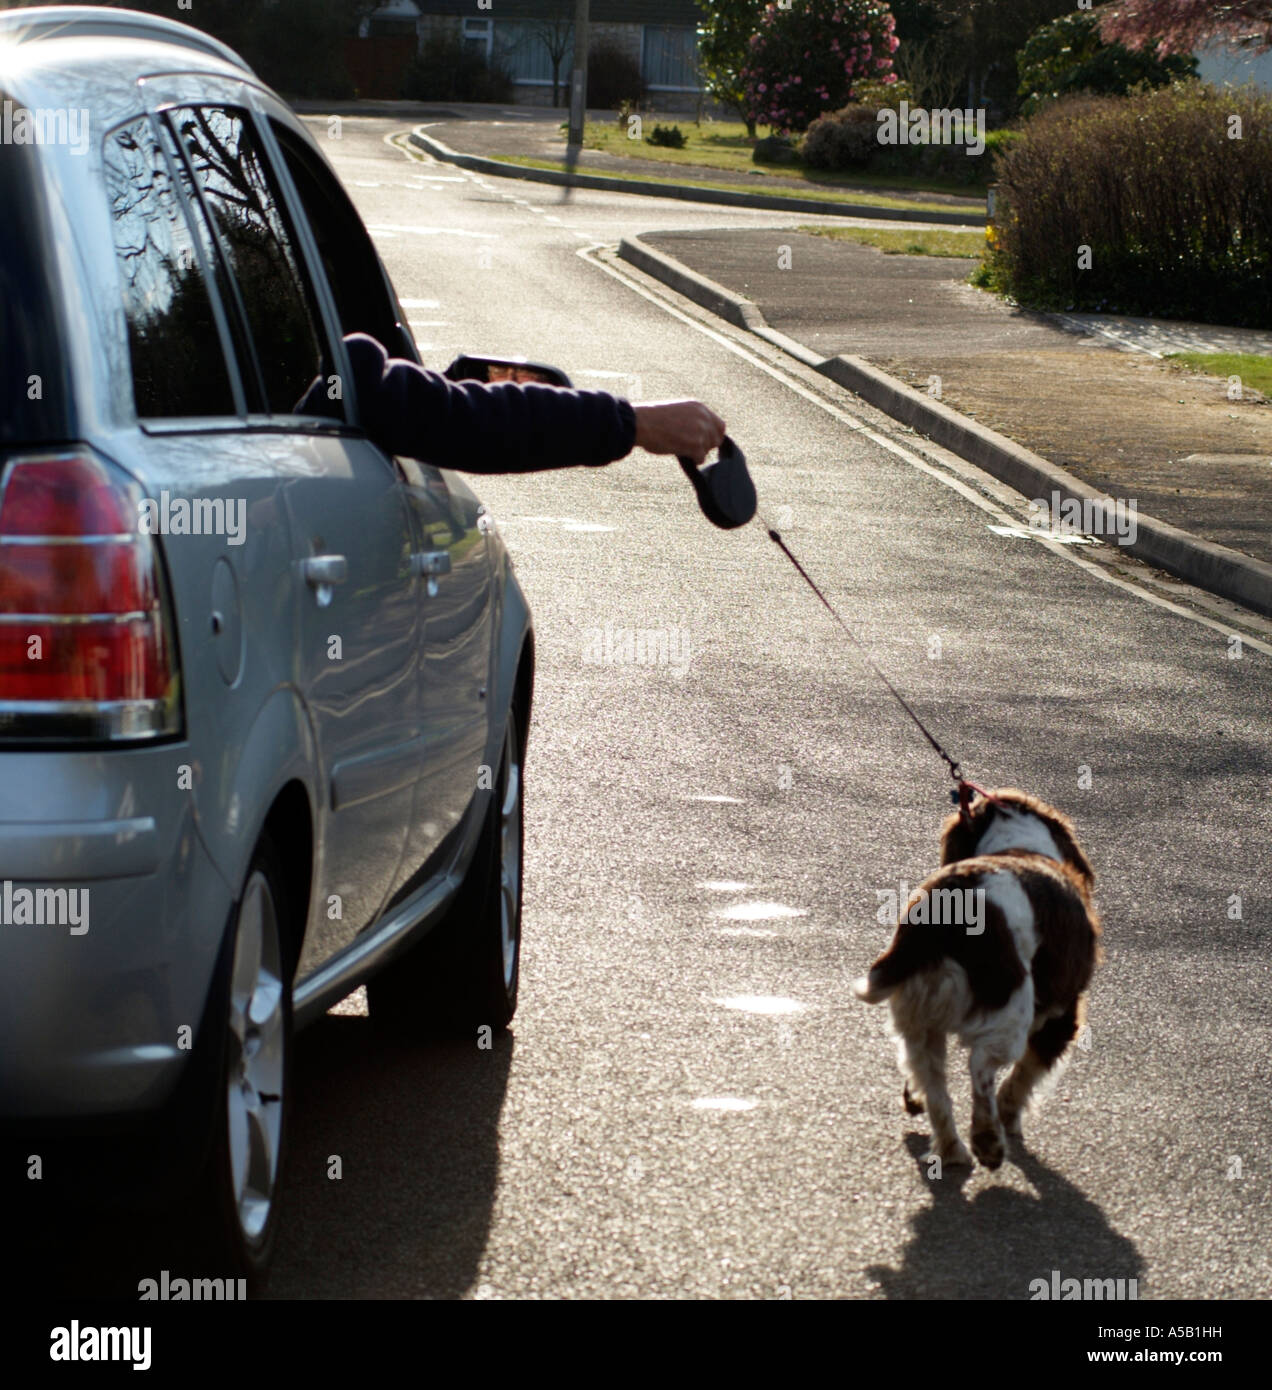car: (10, 11, 766, 1269)
dog: (840, 741, 1164, 1216)
